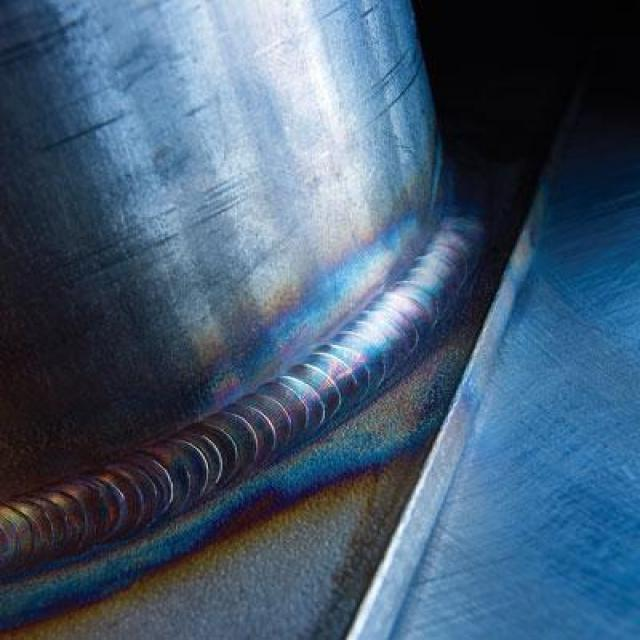Good Weld: (0, 444, 253, 572), (245, 351, 422, 464)
